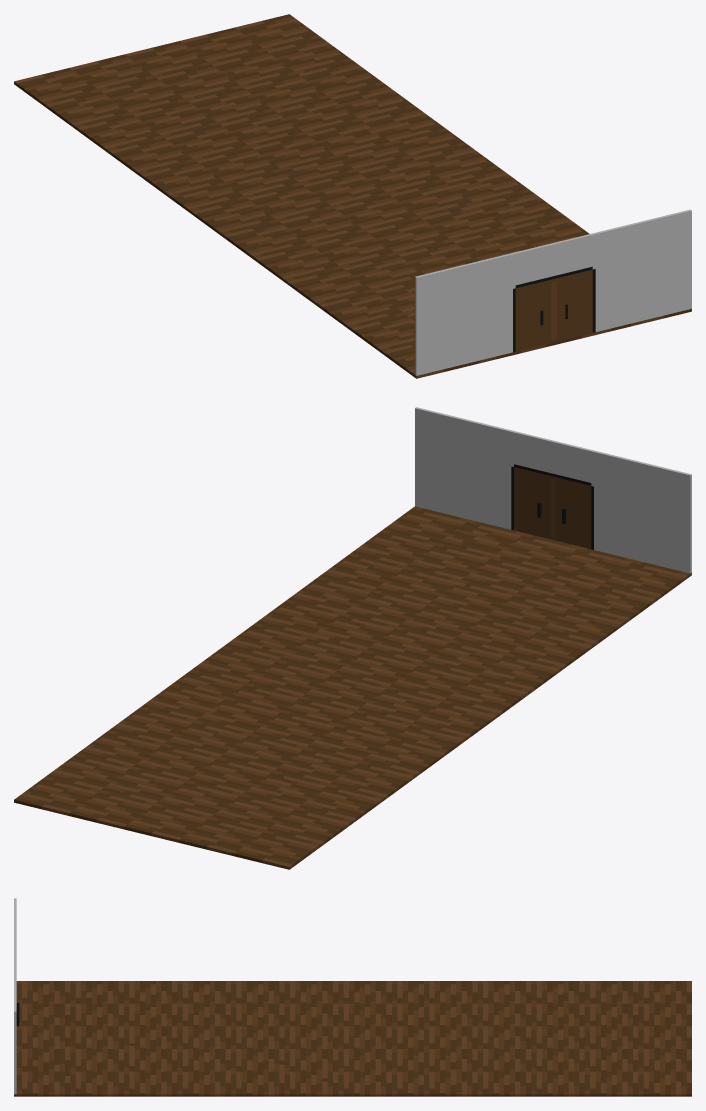
Rendered from FinCouloir.obj.
3 renders of one model, top to bottom at view 1: azimuth 30°, elevation 25°; view 2: azimuth 150°, elevation 25°; view 3: azimuth 270°, elevation 25°, orthographic. The views are drawn at different scales.
Bounding box in the file's own units: 10 × 3.5 × 25.3.
1 material, 1 textured.
